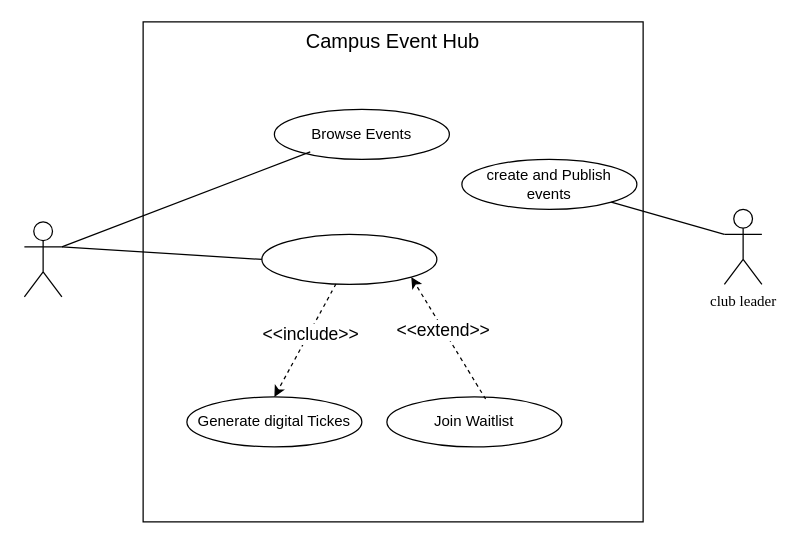
Image size: 798x544. Some labels were removed from this diagram. The centre of each missing label's shape, as x and y in pixels:
"Register for Event" belongs at point 349,258.
"student" belongs at point 42,259.
